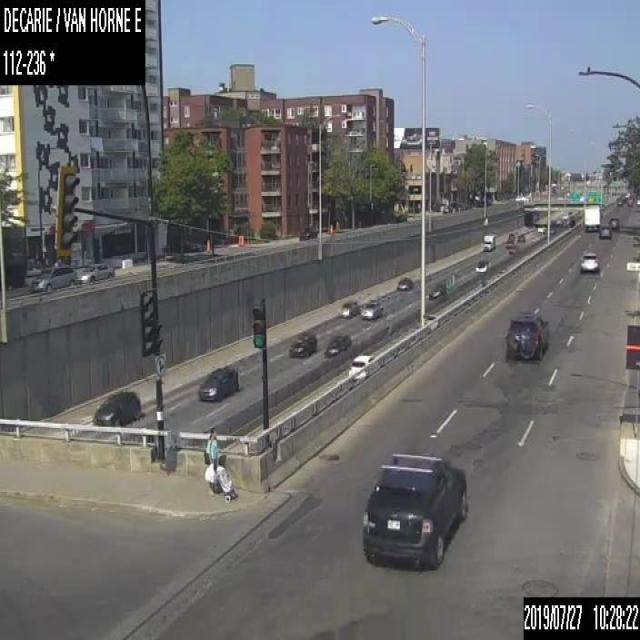construction: (329, 223, 333, 233), (240, 234, 243, 245), (238, 234, 240, 244)
pedestrian: (202, 425, 235, 503)
vehicle: (361, 449, 467, 571), (505, 308, 547, 362), (92, 388, 140, 425), (196, 364, 238, 401), (32, 264, 77, 290), (76, 262, 114, 284), (288, 330, 316, 358), (324, 332, 350, 359), (348, 354, 372, 381), (340, 296, 363, 319), (359, 298, 383, 319), (583, 203, 600, 230), (580, 251, 598, 272), (428, 282, 446, 298), (298, 226, 316, 240), (482, 230, 494, 250), (396, 276, 413, 289), (475, 257, 487, 272), (598, 224, 610, 238), (608, 216, 618, 228), (396, 212, 407, 222), (516, 232, 524, 242), (537, 224, 546, 232), (505, 238, 513, 247), (508, 244, 516, 253), (508, 231, 514, 239), (548, 226, 554, 232), (617, 198, 622, 205)
